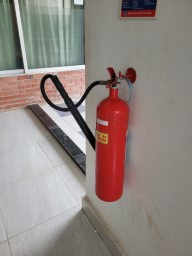fire_extinguisher: (50, 73, 152, 202), (50, 73, 152, 130)
